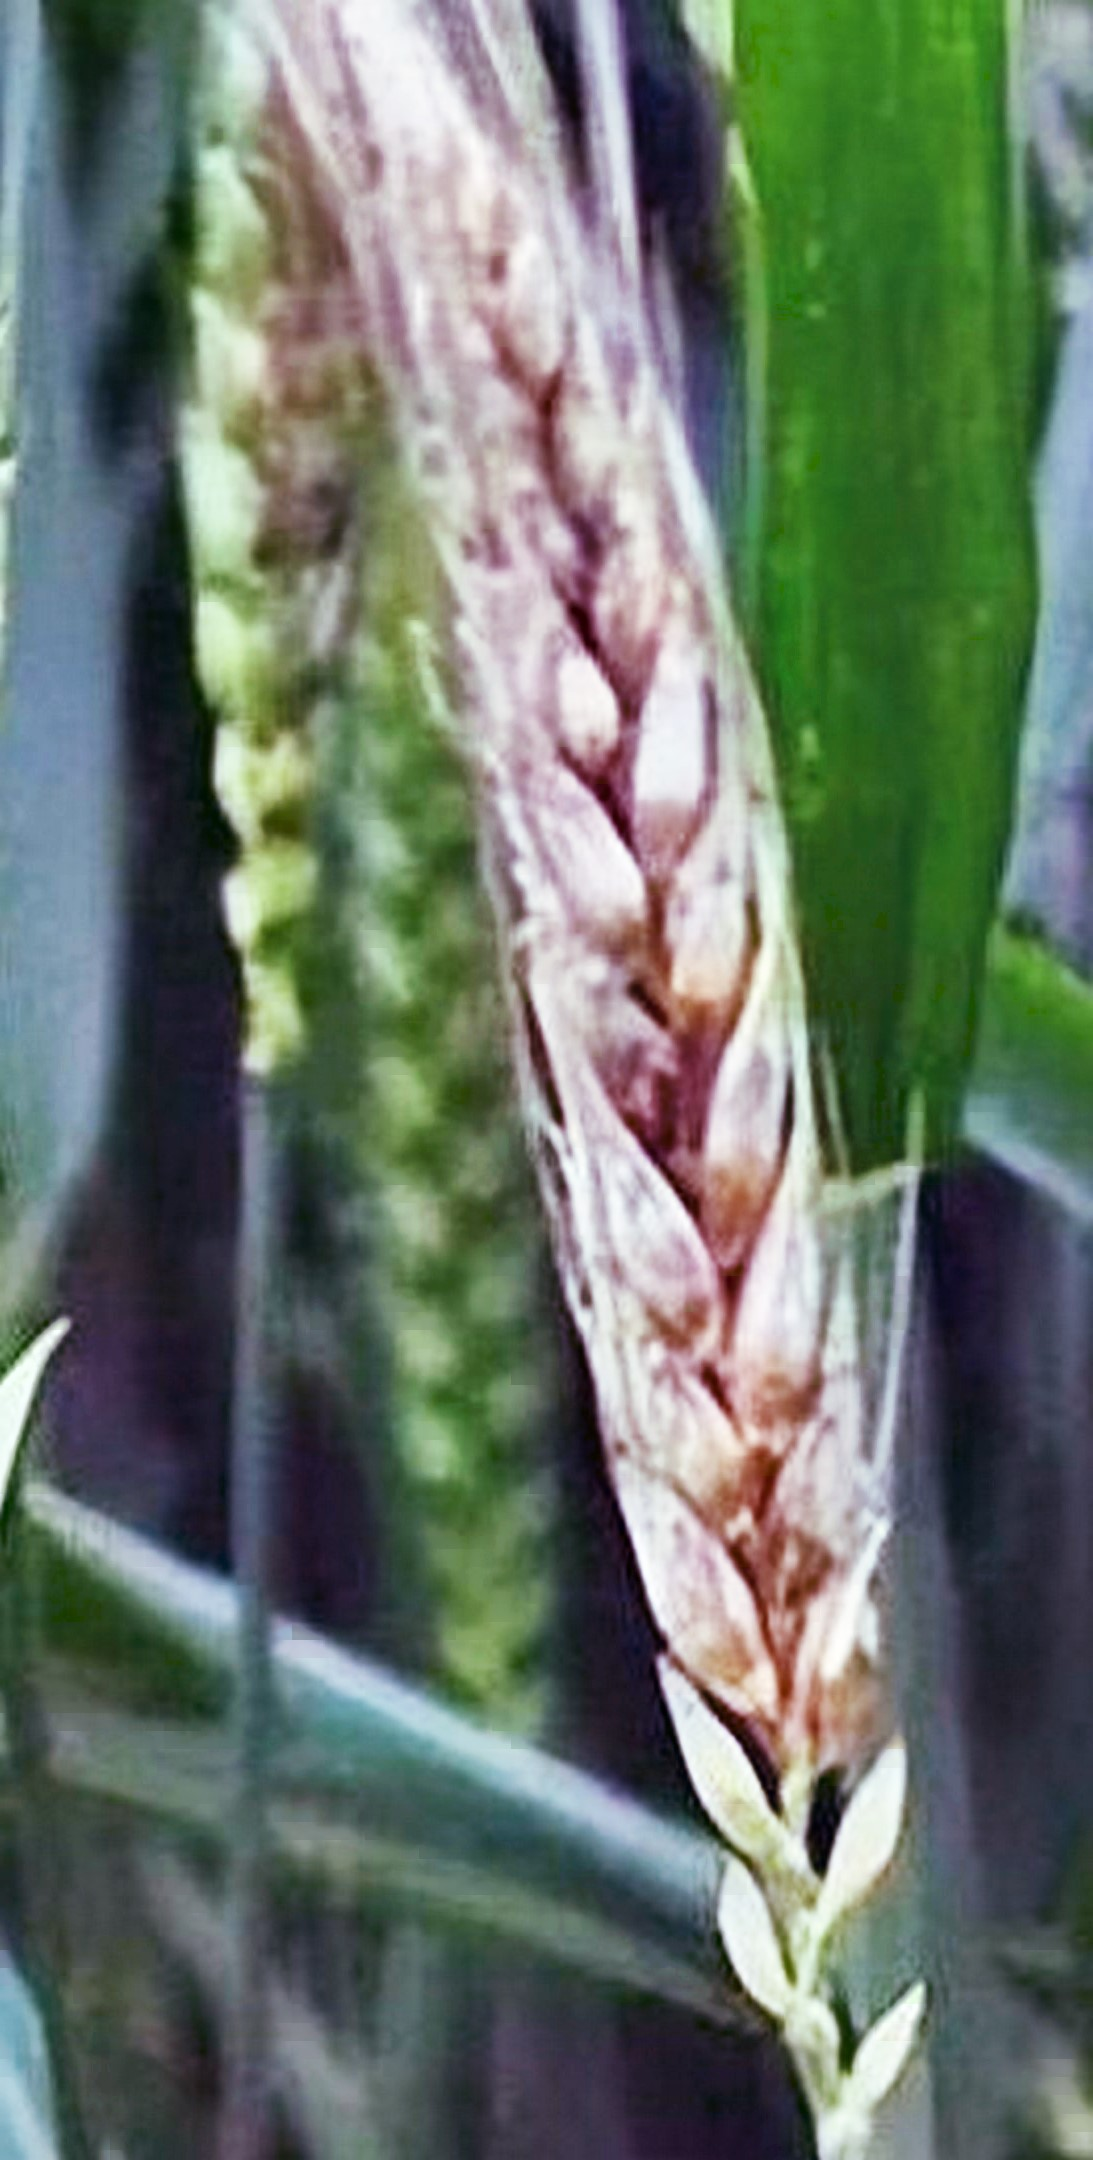Wheat scab: (322, 146, 947, 1940)
